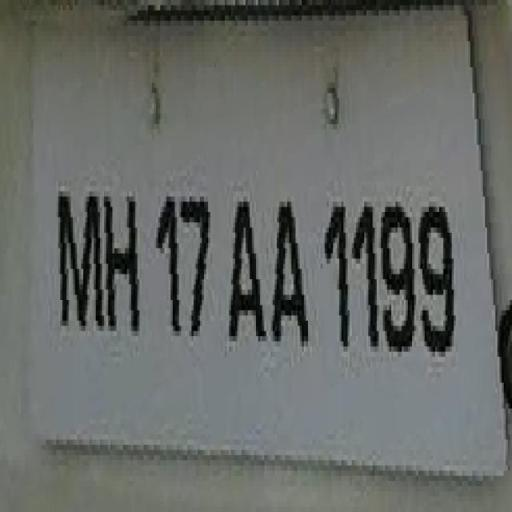number plate: (25, 41, 510, 440)
